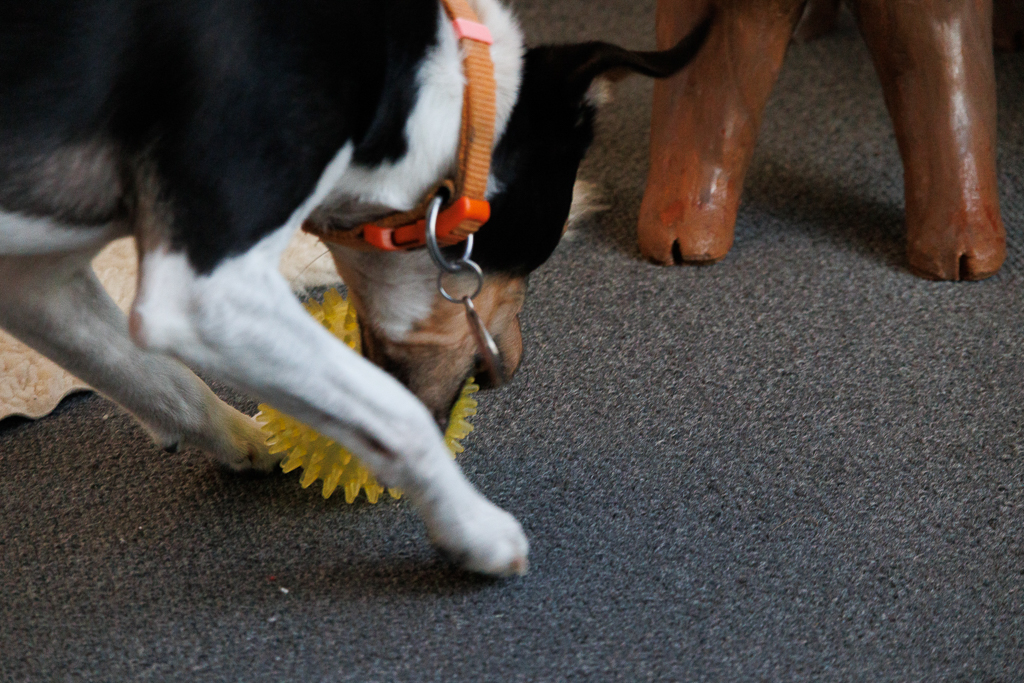Cattle: (623, 0, 1017, 290)
Dog: (0, 0, 733, 592)
